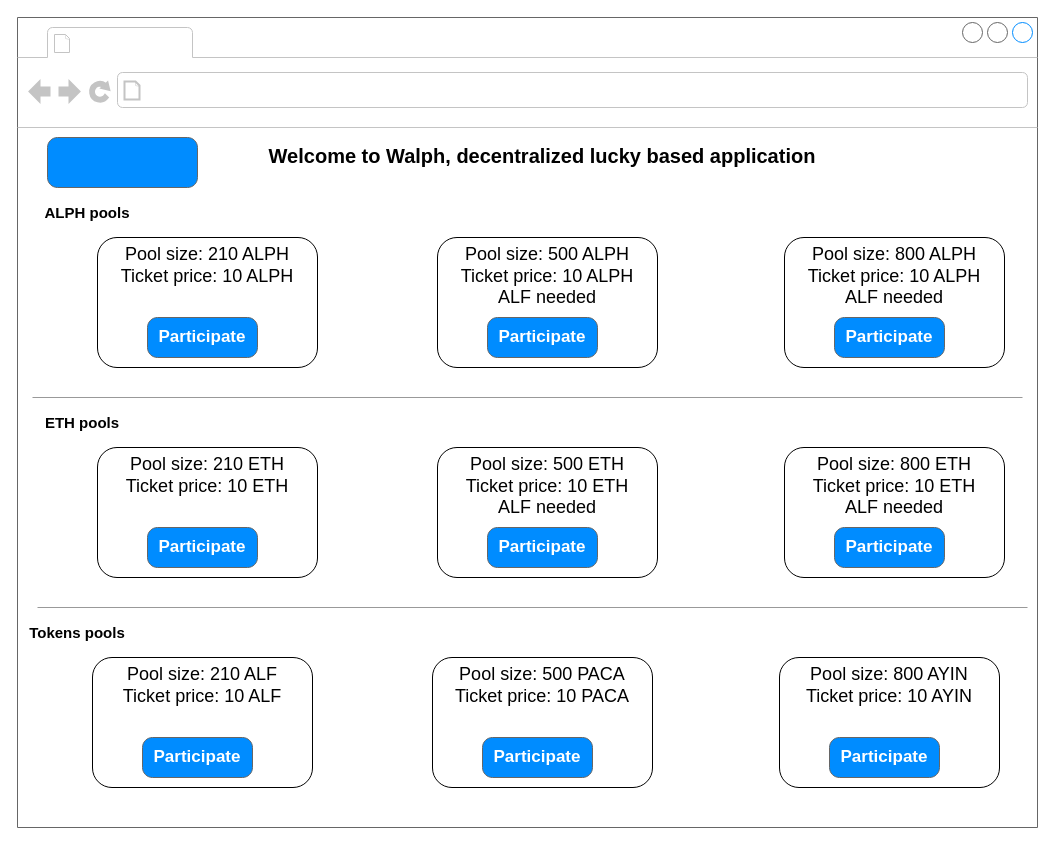
The diagram is 1055 pixels wide and 845 high, and some of its shapes have lost their labels. The centre of each missing label's shape, as x and y in pixels:
"Connect to Alephium" belongs at point (122, 162).
"https://www.walph.io" belongs at point (272, 90).
"Page 1" belongs at point (132, 42).
